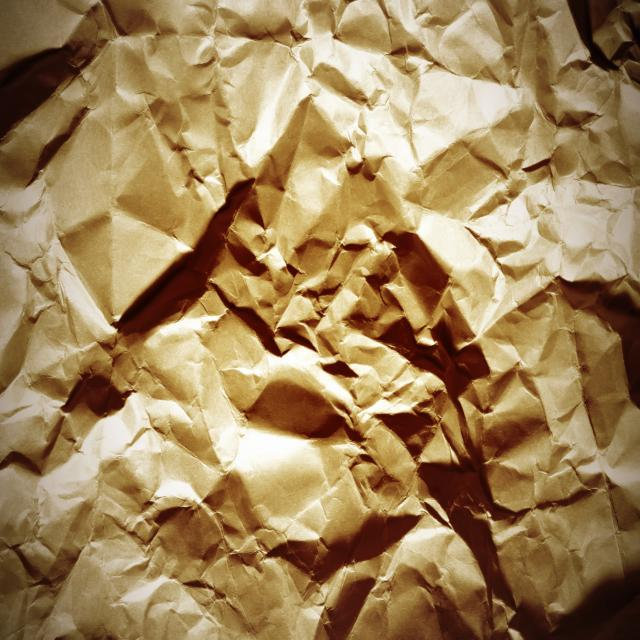cardboard: (129, 87, 468, 445)
